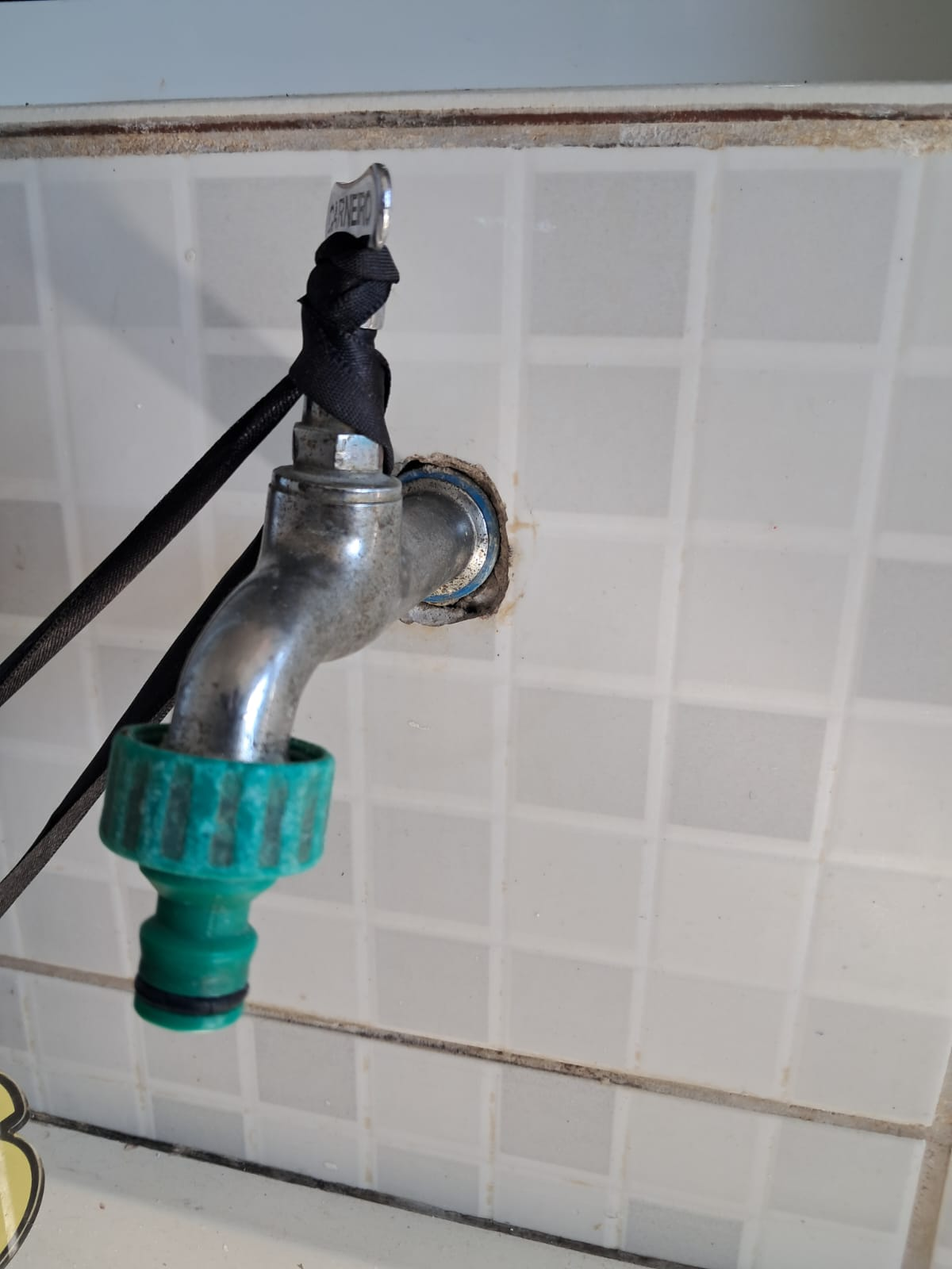torneira_fechada: (76, 136, 540, 1048)
